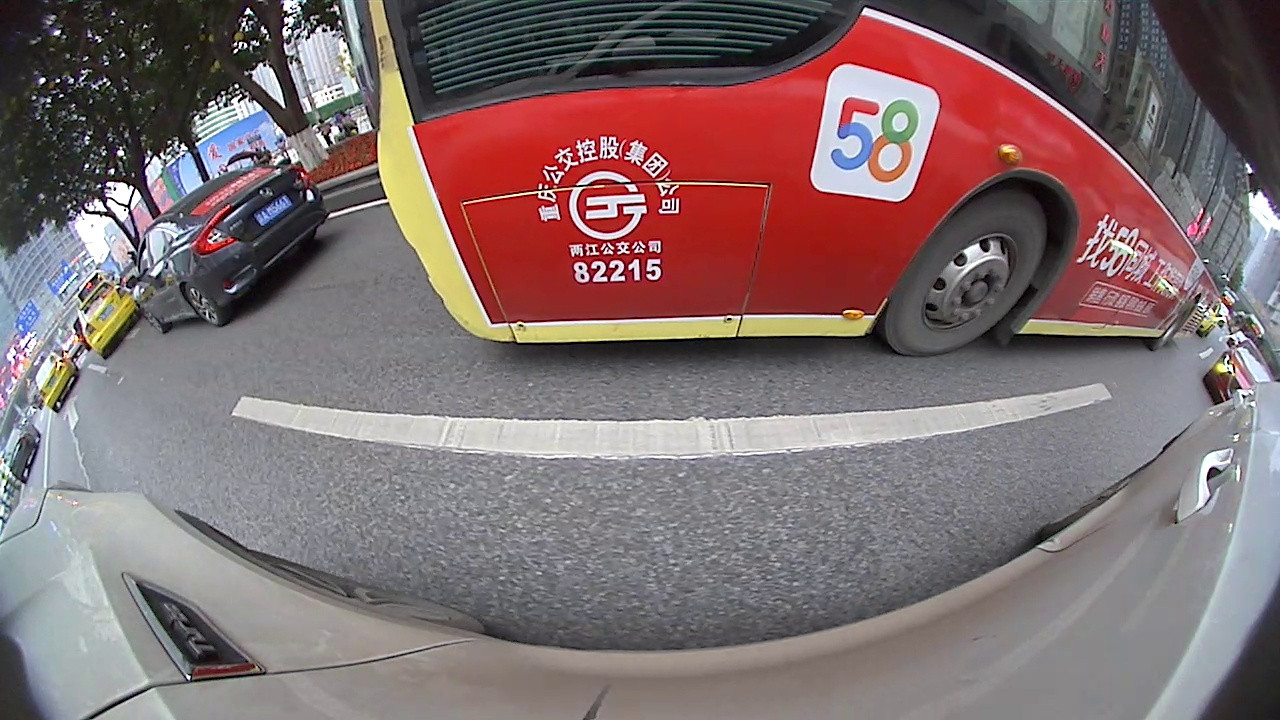bus: (339, 1, 1256, 360)
car: (124, 159, 333, 339), (1204, 337, 1279, 417), (77, 279, 143, 360), (29, 347, 84, 416)
front: (880, 189, 1050, 359), (141, 308, 172, 335)
rear: (1152, 300, 1199, 351), (183, 283, 227, 329)
